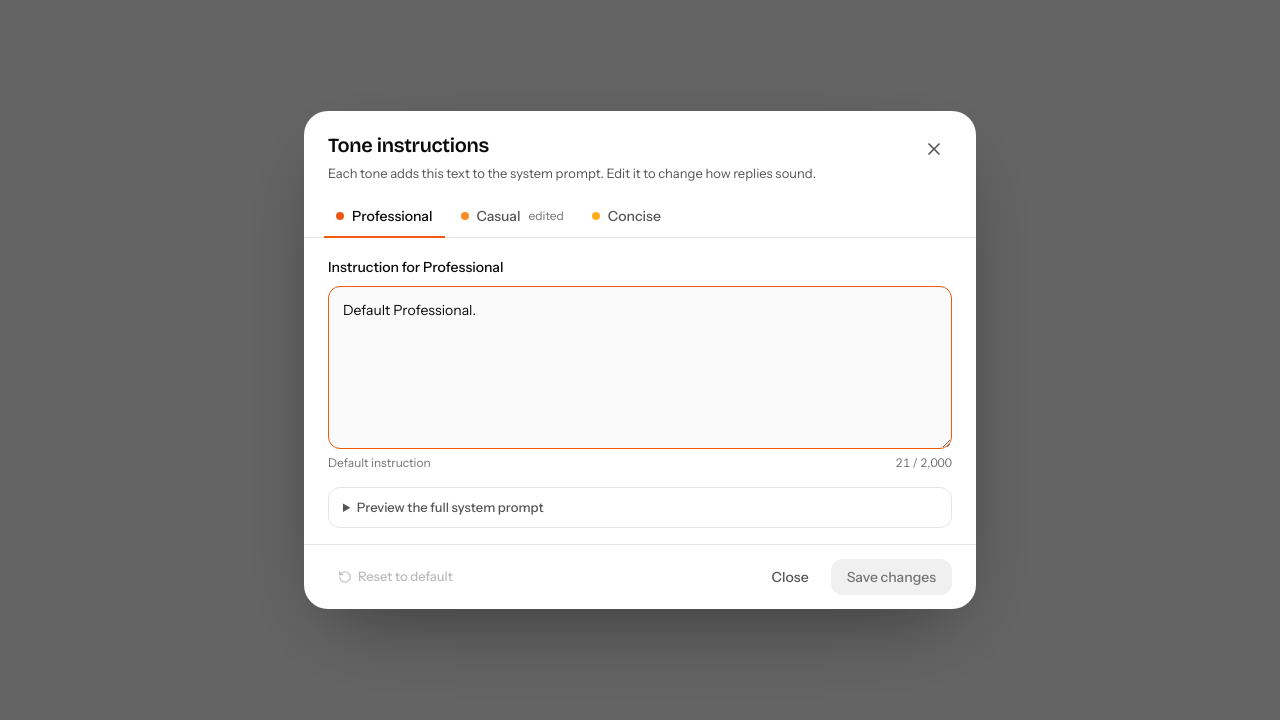
Test case: ToneEditor › resets a customised tone to its default
The width and height of the screenshot is (1280, 720).
Expected: the text box labelled "Instruction for Professional" is shown, x1=328 y1=286 x2=952 y2=449
Expected: the button "Reset to default" is disabled, x1=328 y1=559 x2=463 y2=595
Click the tab "Casual edited" at (512, 217), box x1=448 y1=196 x2=576 y2=238
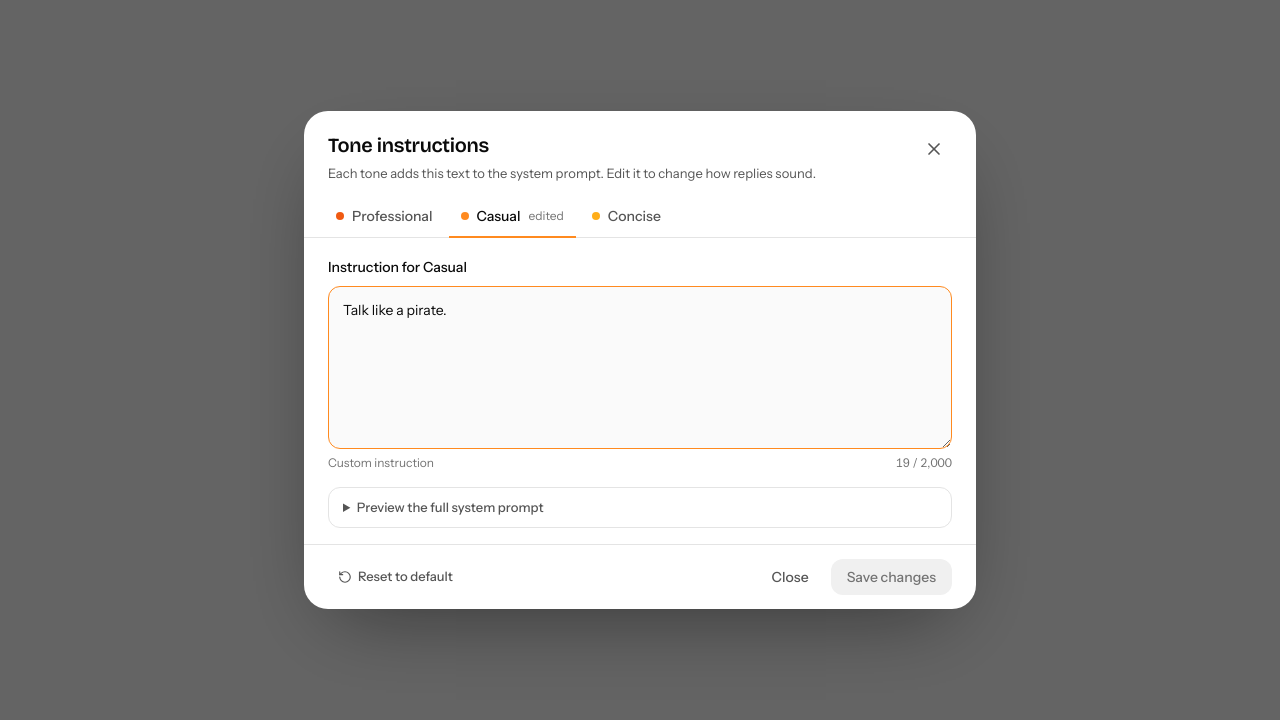
Click the button "Reset to default" at (395, 577), box x1=328 y1=559 x2=463 y2=595
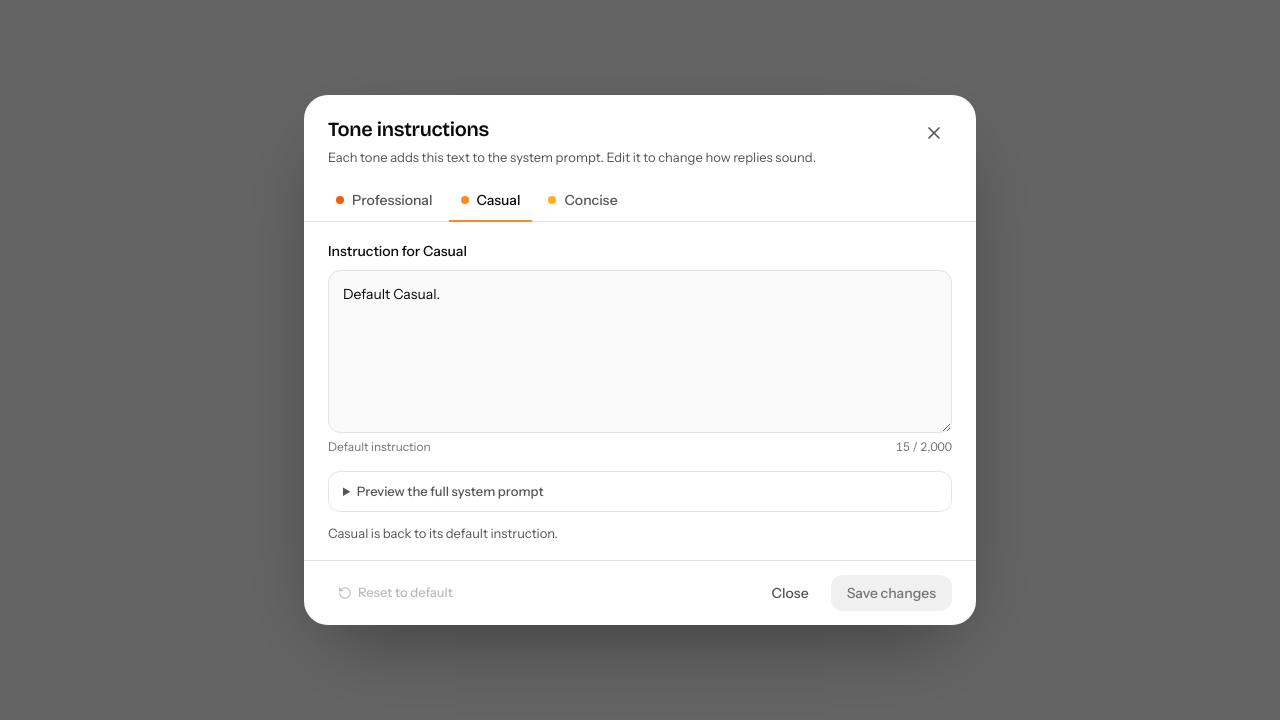
Result: the text box labelled "Instruction for Casual" holds "Default Casual." at x1=328 y1=270 x2=952 y2=433
